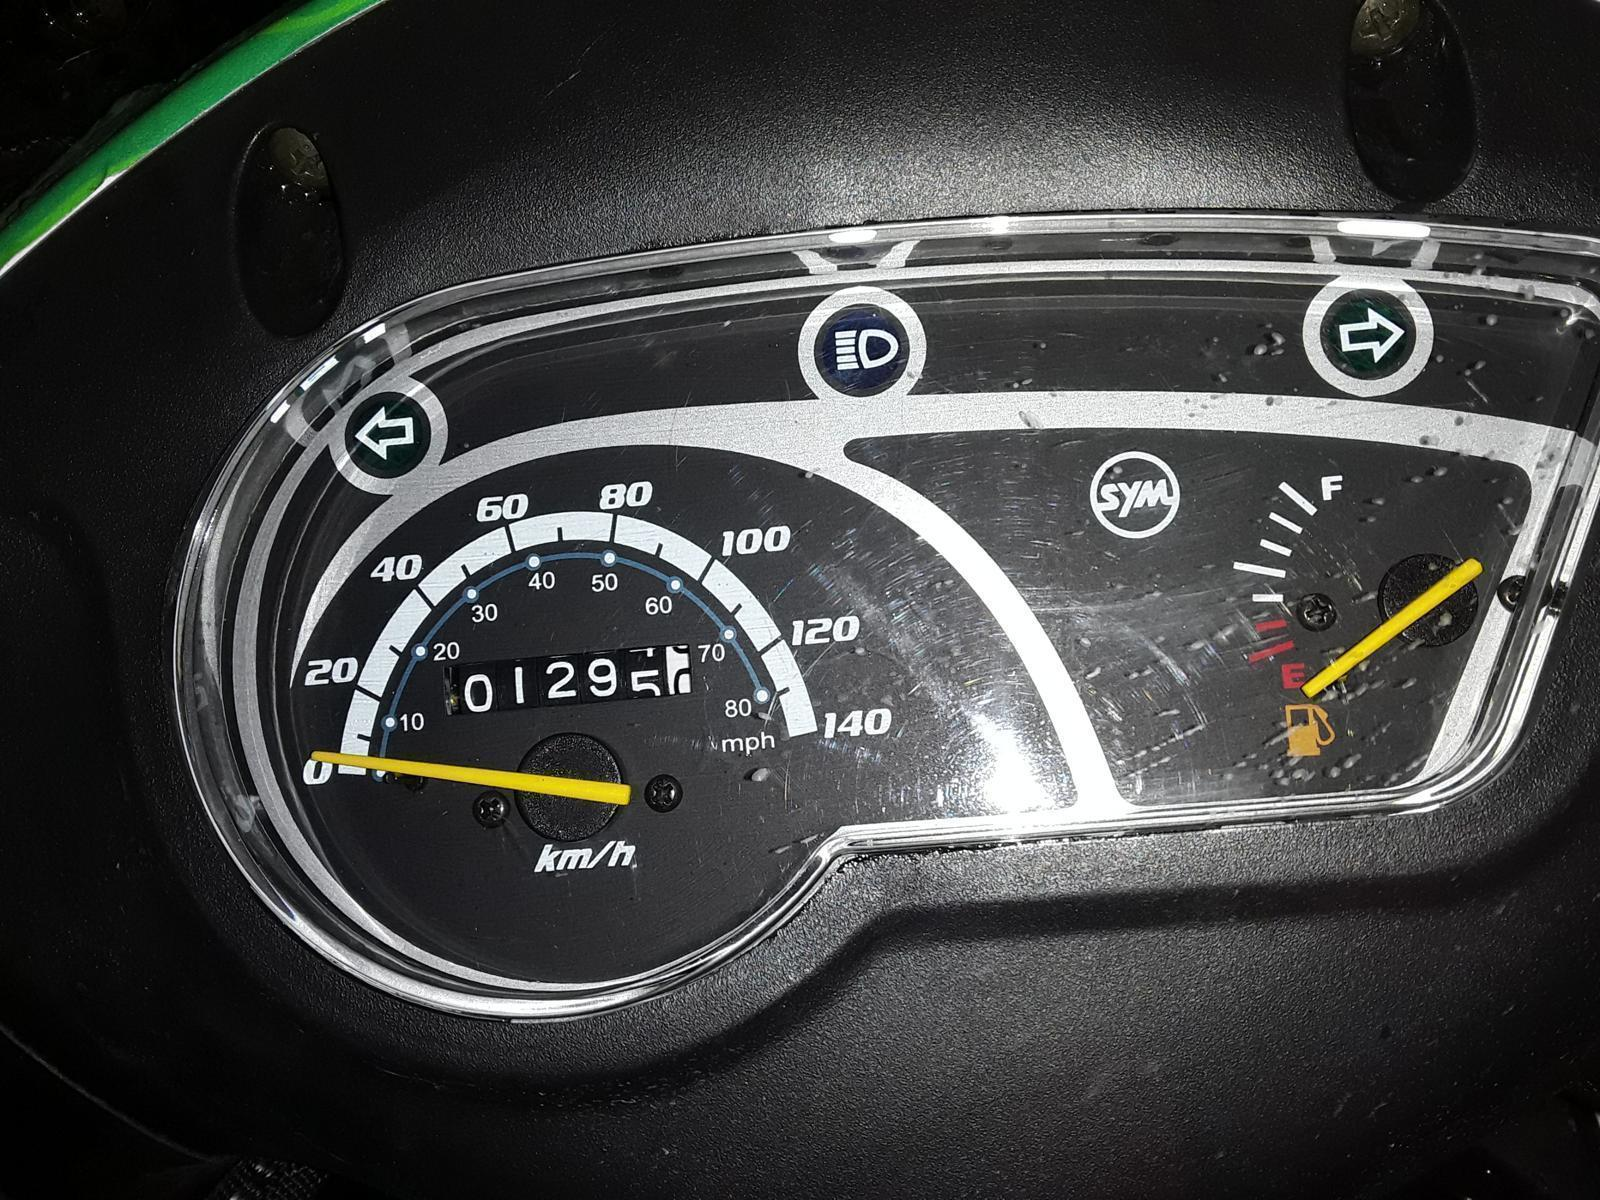0: (464, 672, 493, 713), (673, 667, 695, 700), (445, 640, 460, 661)
1: (511, 666, 525, 705)
2: (544, 661, 577, 700)
5: (630, 668, 661, 705)
9: (586, 657, 619, 697)
odometer: (438, 642, 694, 718)
